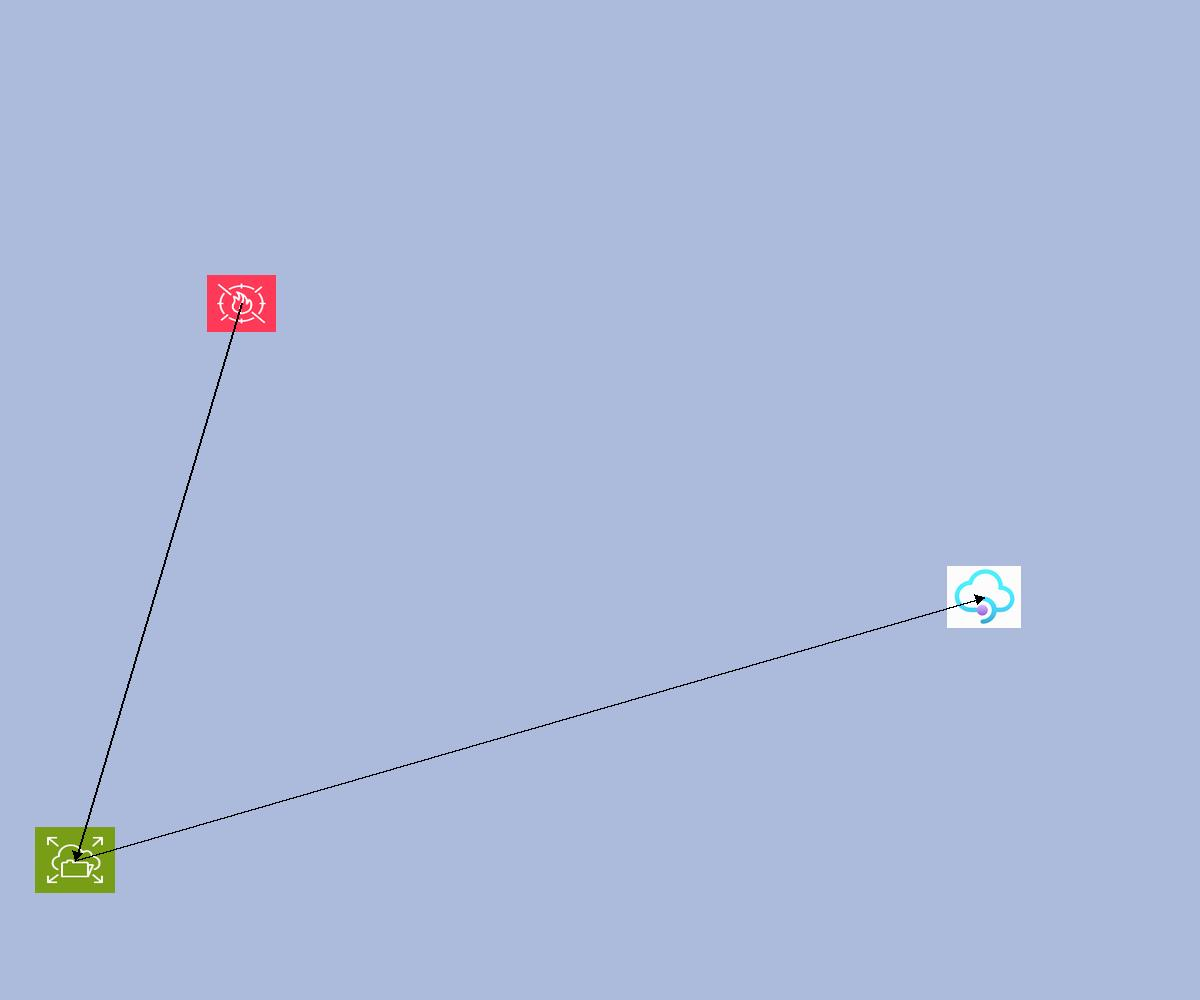AWS-EFS: (35, 827, 115, 893)
AWS-WAF: (207, 275, 276, 332)
Azure_api_gateway: (947, 566, 1021, 628)
